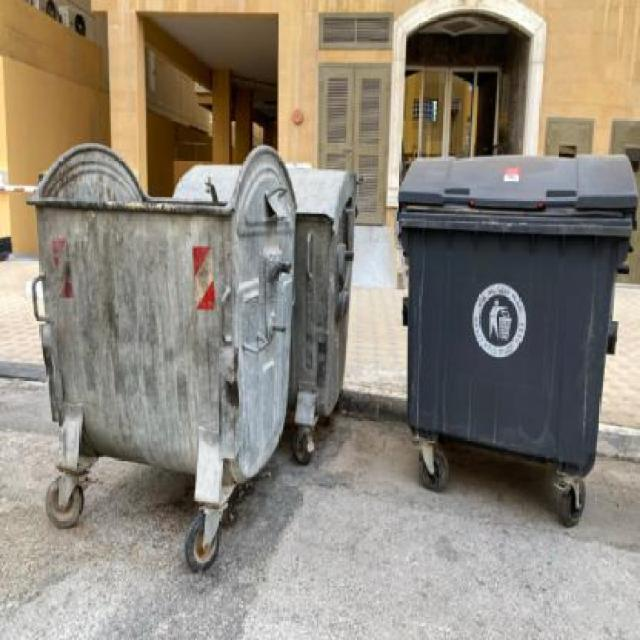garbage container: (390, 145, 639, 540)
